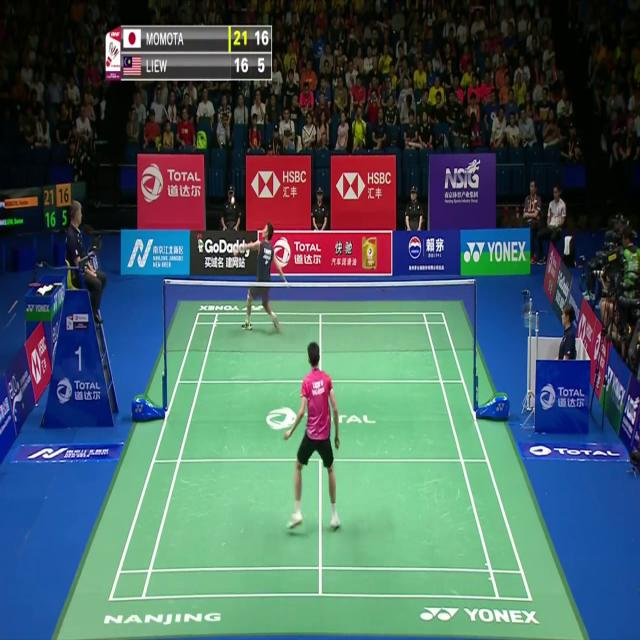Shuttlecock: (229, 195, 236, 207)
